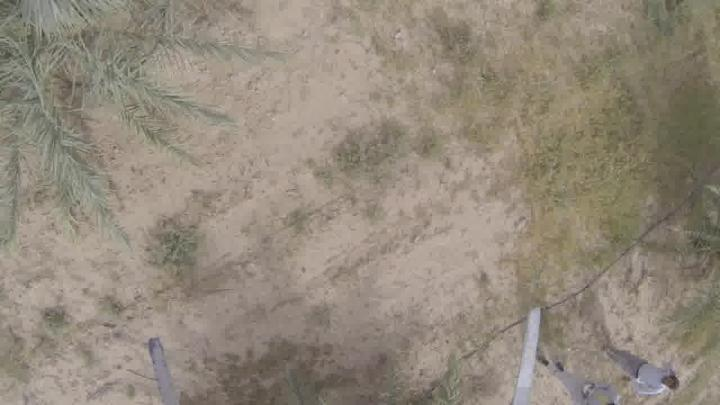Date-Palm-Crown: (0, 0, 98, 90)
